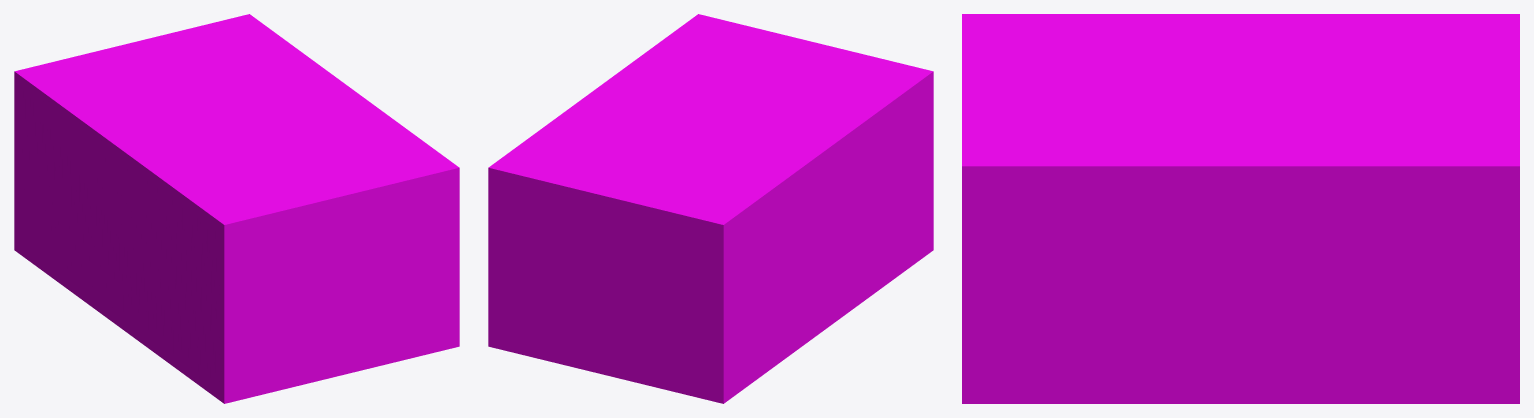
File: TutorialStage_Coll.fbx
The picture shows the model from 3 angles, left to right: view 1: azimuth 30°, elevation 25°; view 2: azimuth 150°, elevation 25°; view 3: azimuth 270°, elevation 25°; orthographic projection. The views are drawn at different scales.
Parts seen in each view (by area): view 1: Coll_Ceiling, Coll_WallFront, Coll_WallLeft, Coll_Floor, Coll_WallRight, Coll_WallBack; view 2: Coll_Ceiling, Coll_WallBack, Coll_WallLeft, Coll_Floor, Coll_WallRight, Coll_WallFront; view 3: Coll_WallRight, Coll_Ceiling, Coll_Floor, Coll_WallFront, Coll_WallBack, Coll_WallLeft.
Boxes of the visible parts, x1,y1,x2,y2 form: Coll_Ceiling: (14,14,459,236); Coll_WallFront: (217,163,459,403); Coll_WallLeft: (14,72,235,403); Coll_Floor: (14,238,459,403); Coll_WallRight: (243,14,459,346); Coll_WallBack: (14,14,253,253); Coll_Ceiling: (488,14,933,236); Coll_WallBack: (488,163,730,403); Coll_WallLeft: (712,72,933,403); Coll_Floor: (488,238,933,403); Coll_WallRight: (488,15,708,348); Coll_WallFront: (692,14,933,250); Coll_WallRight: (962,159,1519,403); Coll_Ceiling: (962,14,1519,182); Coll_Floor: (962,388,1519,403); Coll_WallFront: (962,14,979,403); Coll_WallBack: (1502,14,1519,403); Coll_WallLeft: (962,14,1518,21).
Size of the model in its own units: 2050 by 1490 by 3170.
